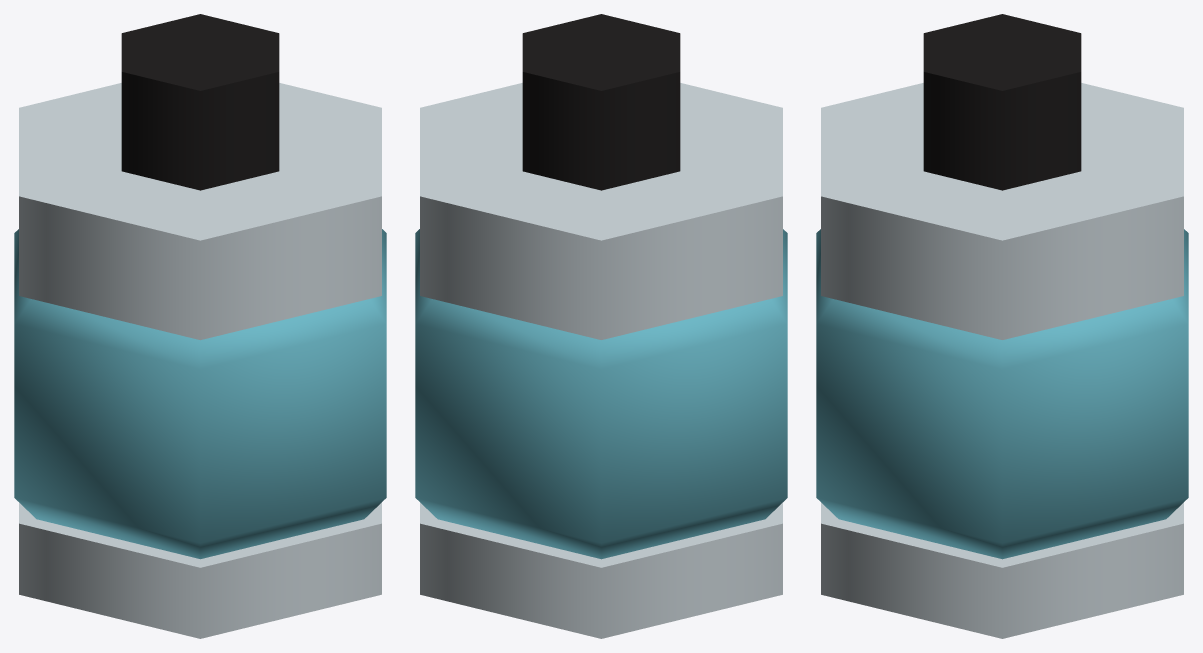
File: item_rm_neutroamine_a.obj
3 renders of one model, left to right at view 1: azimuth 30°, elevation 25°; view 2: azimuth 150°, elevation 25°; view 3: azimuth 270°, elevation 25°, orthographic.
Visible parts, largest first — view 1: bottle_body_60, part_040_rawmat_bottle, part_020_rawmat_bottle, part_000_an_dark; view 2: bottle_body_60, part_040_rawmat_bottle, part_020_rawmat_bottle, part_000_an_dark; view 3: bottle_body_60, part_040_rawmat_bottle, part_020_rawmat_bottle, part_000_an_dark.
Boxes of the visible parts, x1,y1,x2,y2 form: bottle_body_60: (14,229,386,559); part_040_rawmat_bottle: (19,83,381,340); part_020_rawmat_bottle: (19,502,381,638); part_000_an_dark: (121,14,279,190); bottle_body_60: (415,229,787,559); part_040_rawmat_bottle: (420,83,782,339); part_020_rawmat_bottle: (420,502,782,638); part_000_an_dark: (522,14,680,190); bottle_body_60: (816,229,1188,559); part_040_rawmat_bottle: (821,83,1183,339); part_020_rawmat_bottle: (821,502,1183,638); part_000_an_dark: (923,14,1081,190).
Size of the model in its own units: 0.3918 by 0.5005 by 0.3392.
